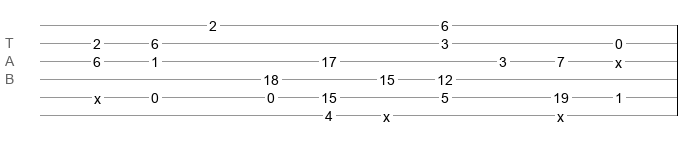0: (151, 90, 159, 100), (267, 90, 275, 100), (615, 36, 623, 46)
1: (151, 54, 159, 64), (615, 90, 623, 100)
12: (437, 72, 453, 82)
15: (321, 90, 337, 100), (379, 72, 395, 82)
17: (321, 54, 337, 64)
18: (263, 72, 279, 82)
19: (553, 90, 569, 100)
2: (93, 36, 101, 46), (209, 18, 217, 28)
3: (441, 36, 449, 46), (499, 54, 507, 64)
4: (325, 108, 333, 118)
5: (441, 90, 449, 100)
6: (93, 54, 101, 64), (151, 36, 159, 46), (441, 18, 449, 28)
7: (557, 54, 565, 64)
x: (94, 91, 101, 99), (383, 109, 390, 117), (557, 109, 564, 117), (615, 55, 622, 63)
